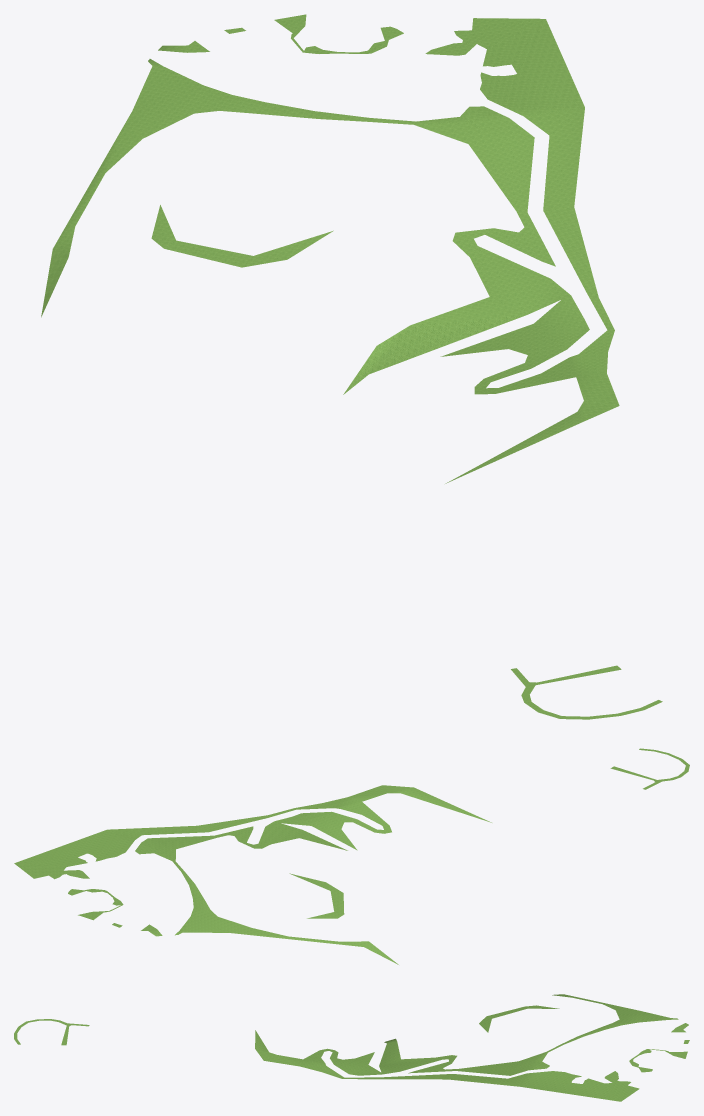
Rendered from kd_stage_136599_10_5_bounded.glb.
The picture shows the model from 3 angles, top to bottom: view 1: azimuth 30°, elevation 25°; view 2: azimuth 150°, elevation 25°; view 3: azimuth 270°, elevation 25°; orthographic projection. The views are drawn at different scales.
Parts seen in each view (by area): view 1: kd_stage_136599_10_5_bounded; view 2: kd_stage_136599_10_5_bounded; view 3: kd_stage_136599_10_5_bounded.
Boxes of the visible parts, left/top/right/bottom form: kd_stage_136599_10_5_bounded: left=41, top=14, right=662, bottom=719; kd_stage_136599_10_5_bounded: left=14, top=748, right=689, bottom=964; kd_stage_136599_10_5_bounded: left=14, top=994, right=689, bottom=1101.
Bounding box in the file's own units: 135 × 26.74 × 267.
Materials: 1 (1 with a texture image).
